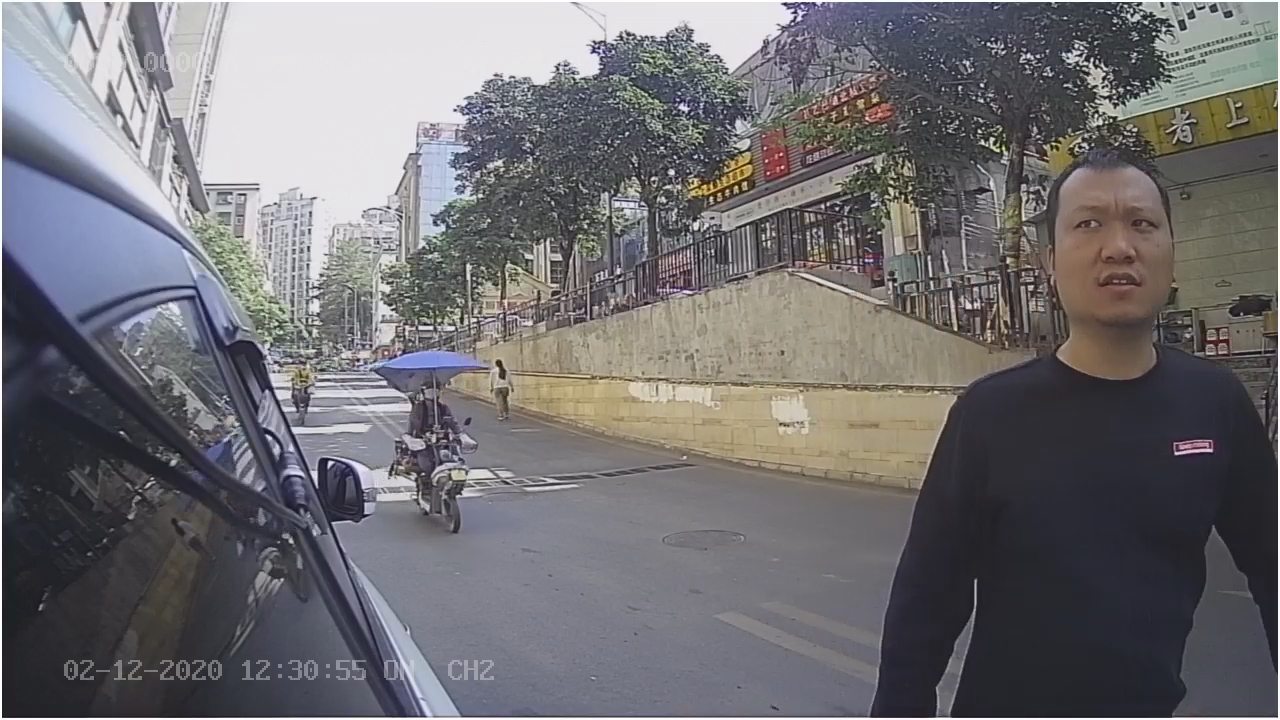person: (901, 146, 1270, 632)
